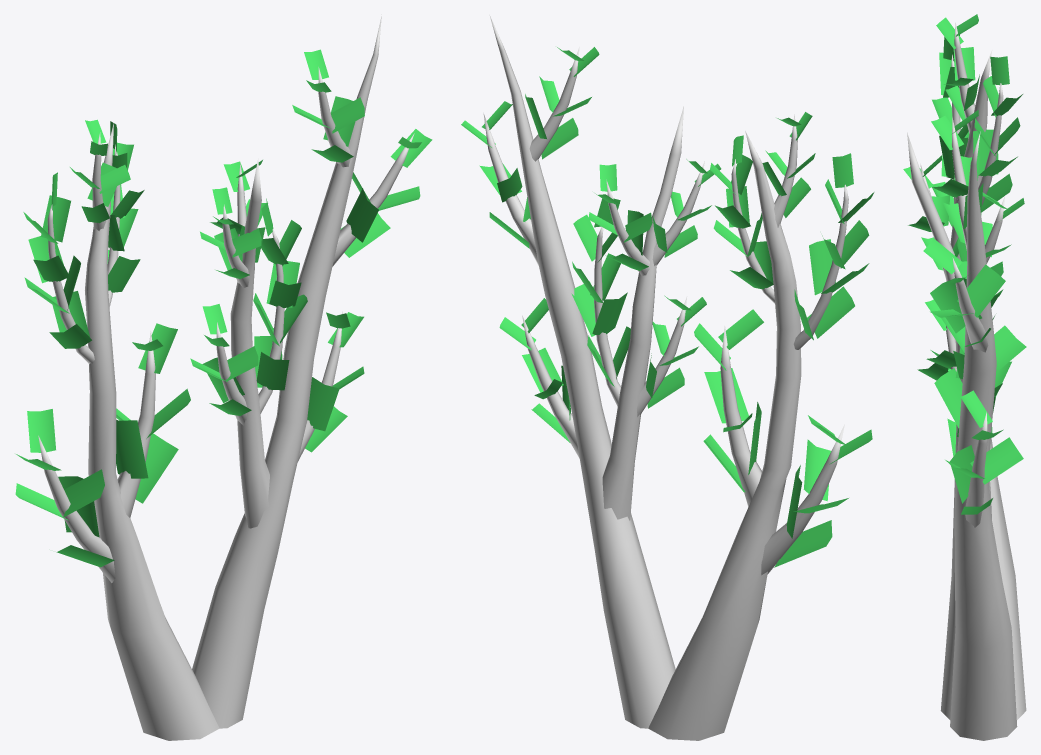
Rendered from Birch_B.fbx.
3 views of the same model, side by side, from view 1: azimuth 30°, elevation 25°; view 2: azimuth 150°, elevation 25°; view 3: azimuth 270°, elevation 25° (orthographic). The views are drawn at different scales.
Visible parts, largest first — view 1: Birch_B_LOD0; view 2: Birch_B_LOD0; view 3: Birch_B_LOD0.
Part boxes in pixels (<box>): Birch_B_LOD0: <box>15,14,432,740</box>; Birch_B_LOD0: <box>461,15,874,740</box>; Birch_B_LOD0: <box>903,14,1026,740</box>.
Size of what is drawn, in the model's own units: 5.63 by 8.66 by 1.43.
